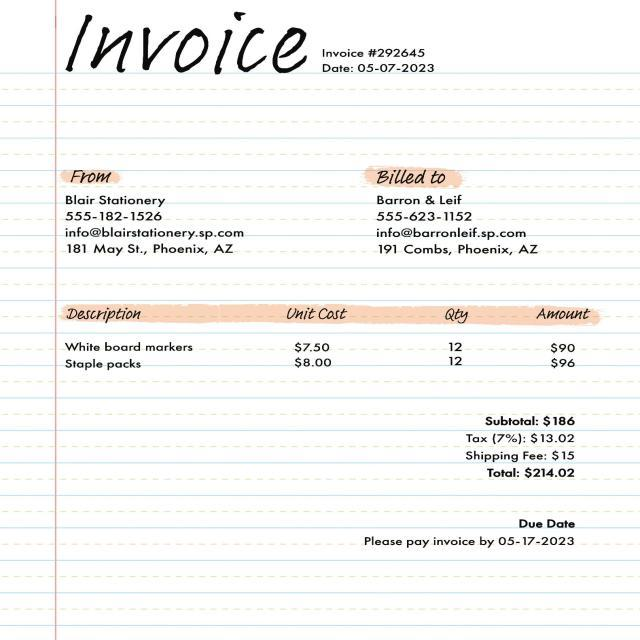ROI: (53, 289, 606, 387), (53, 156, 291, 265), (344, 164, 558, 266), (50, 4, 314, 83), (451, 410, 592, 490), (356, 509, 590, 552), (318, 42, 446, 77)
